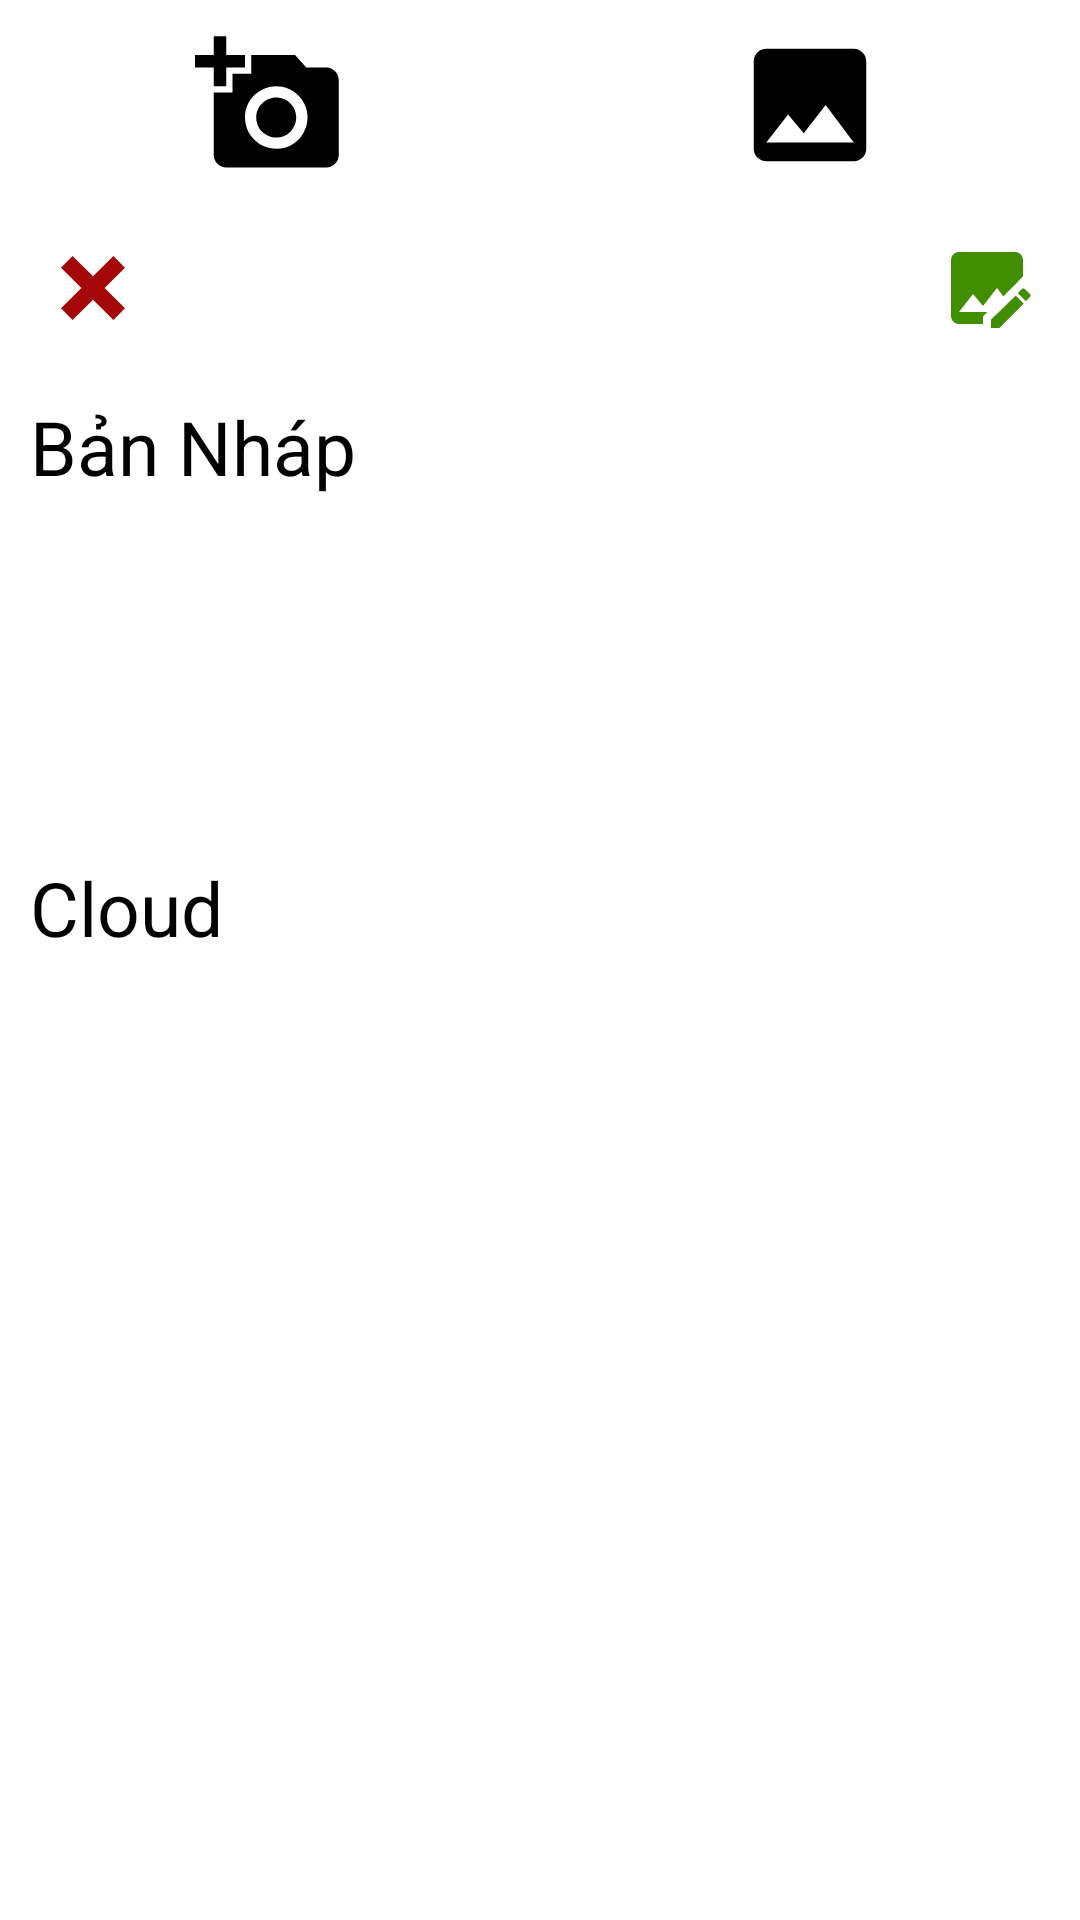

Named icons in this screenshot (1080×1920) and their bounding boxes, box(x1, y1, x2, y2):
camera plus: box(195, 36, 339, 168)
close thick: box(61, 256, 125, 320)
edit: box(951, 252, 1031, 328)
